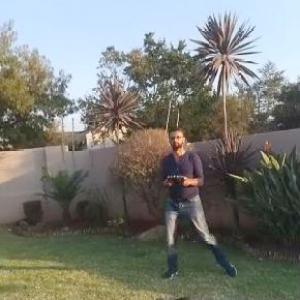follow: (156, 118, 241, 283)
